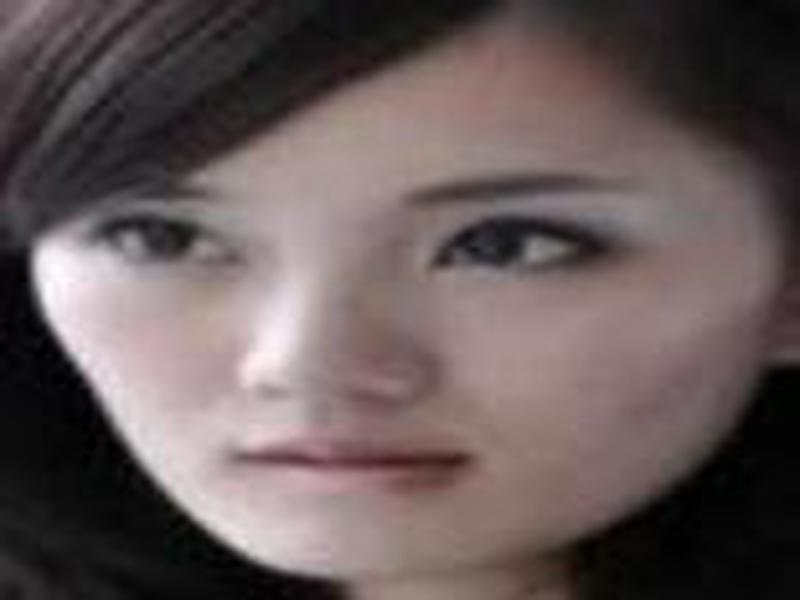without_mask: (29, 51, 734, 576)
